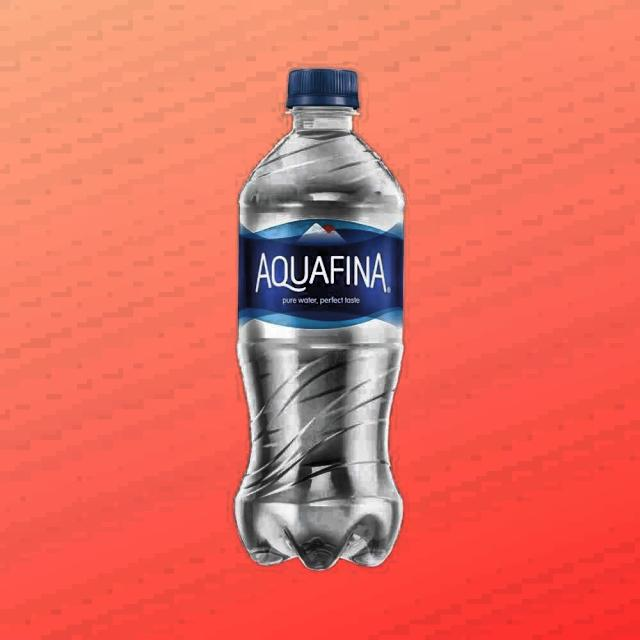plastic bottle: (235, 68, 404, 571)
